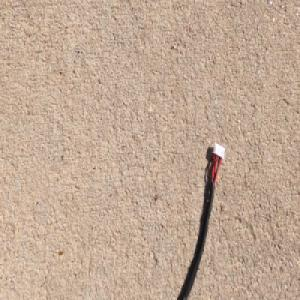Wire: (176, 139, 226, 300)
